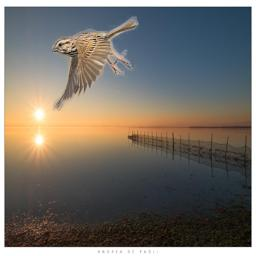Sparrow: (52, 14, 139, 111)
